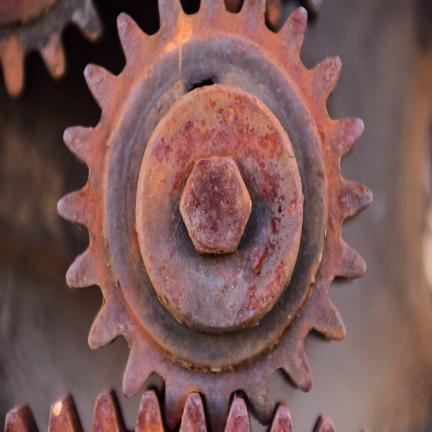karat: (92, 11, 342, 397)
